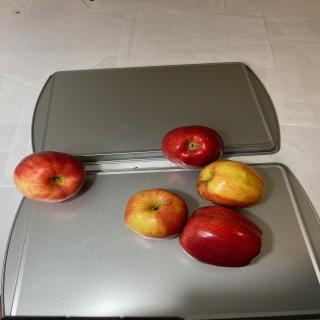Apple: (178, 205, 264, 268), (13, 151, 86, 203), (196, 159, 266, 208), (124, 188, 188, 240), (161, 124, 225, 170)
